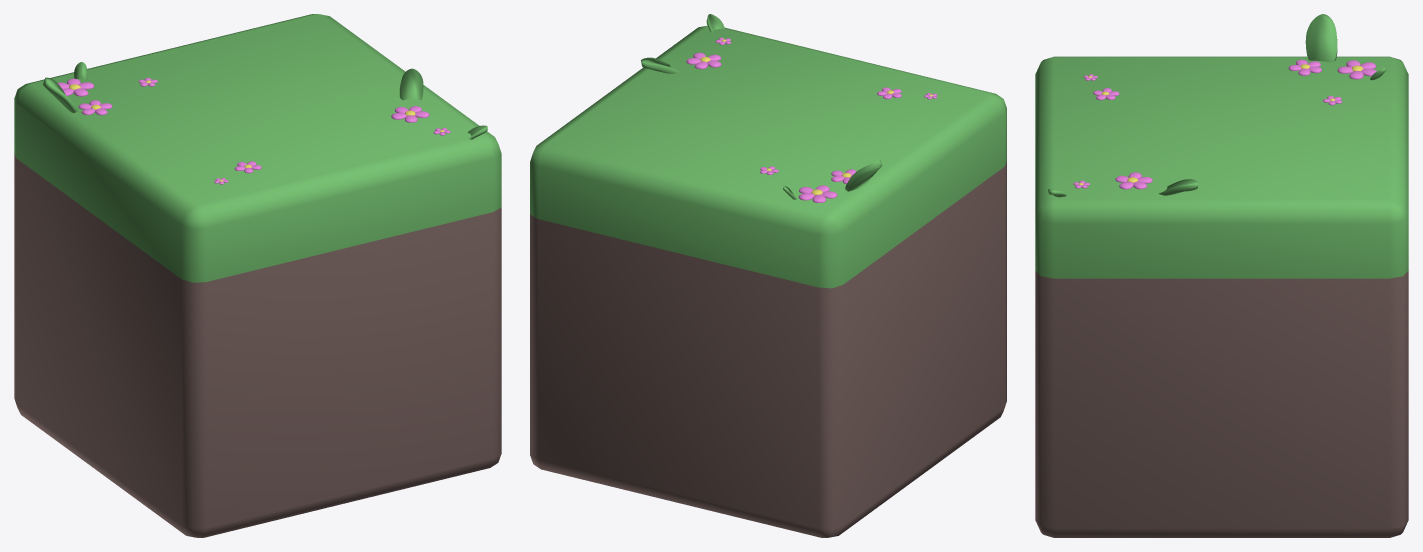
File: GrasBlokContext2.fbx
3 renders of one model, left to right at view 1: azimuth 30°, elevation 25°; view 2: azimuth 150°, elevation 25°; view 3: azimuth 270°, elevation 25°, orthographic. The views are drawn at different scales.
Visible parts, largest first — view 1: Struikk.001; view 2: Struikk.001; view 3: Struikk.001.
Part boxes in pixels (bbox=[...]): Struikk.001: bbox=[14, 14, 501, 537]; Struikk.001: bbox=[530, 14, 1006, 537]; Struikk.001: bbox=[1035, 14, 1408, 537].
Size of the model in its own units: 102 by 110 by 100.
